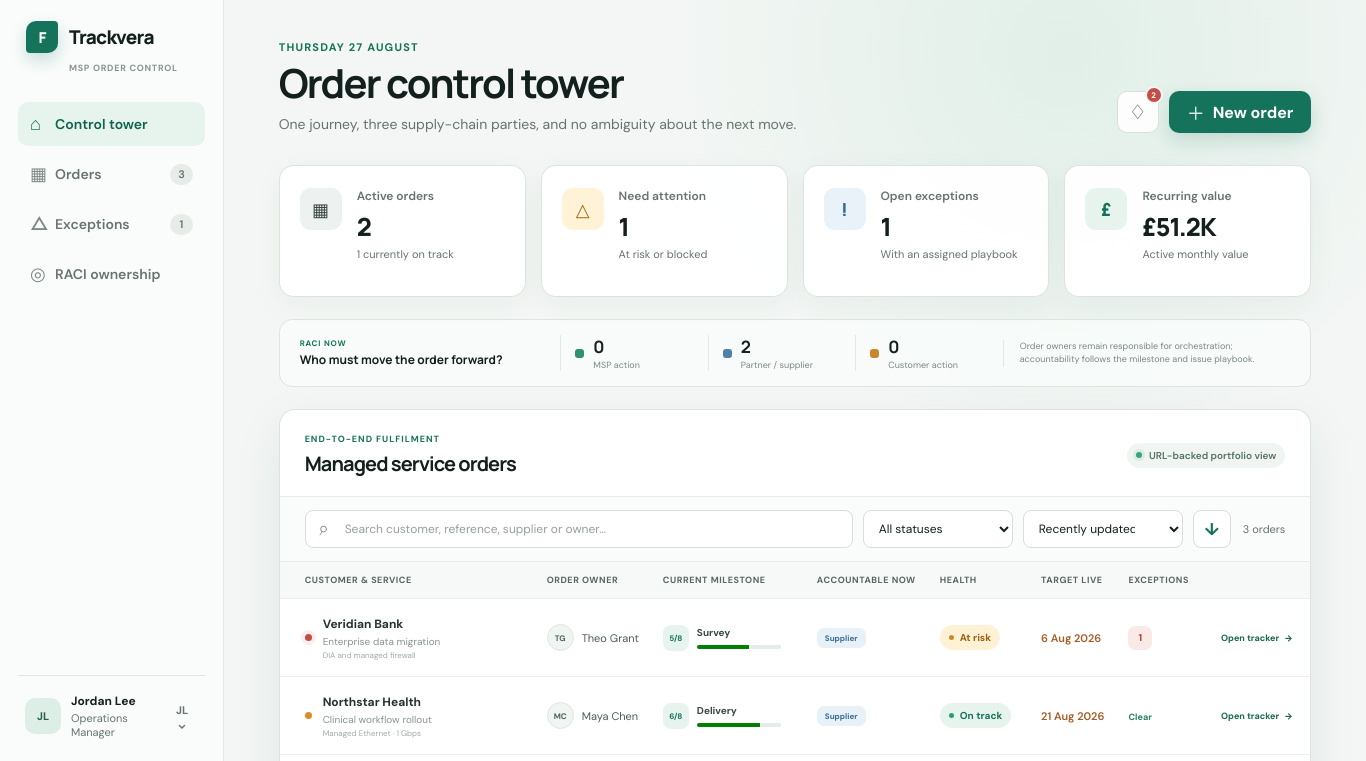
Scenario: MSP order orchestration › shows RACI ownership and an exception resolution playbook
Expected: the text "Veridian Bank" is shown, [323, 616, 403, 632]
Click the button with aria-label "Open Veridian Bank order tracker" at point(1257, 638), box [1213, 626, 1301, 650]
(page scrolled)
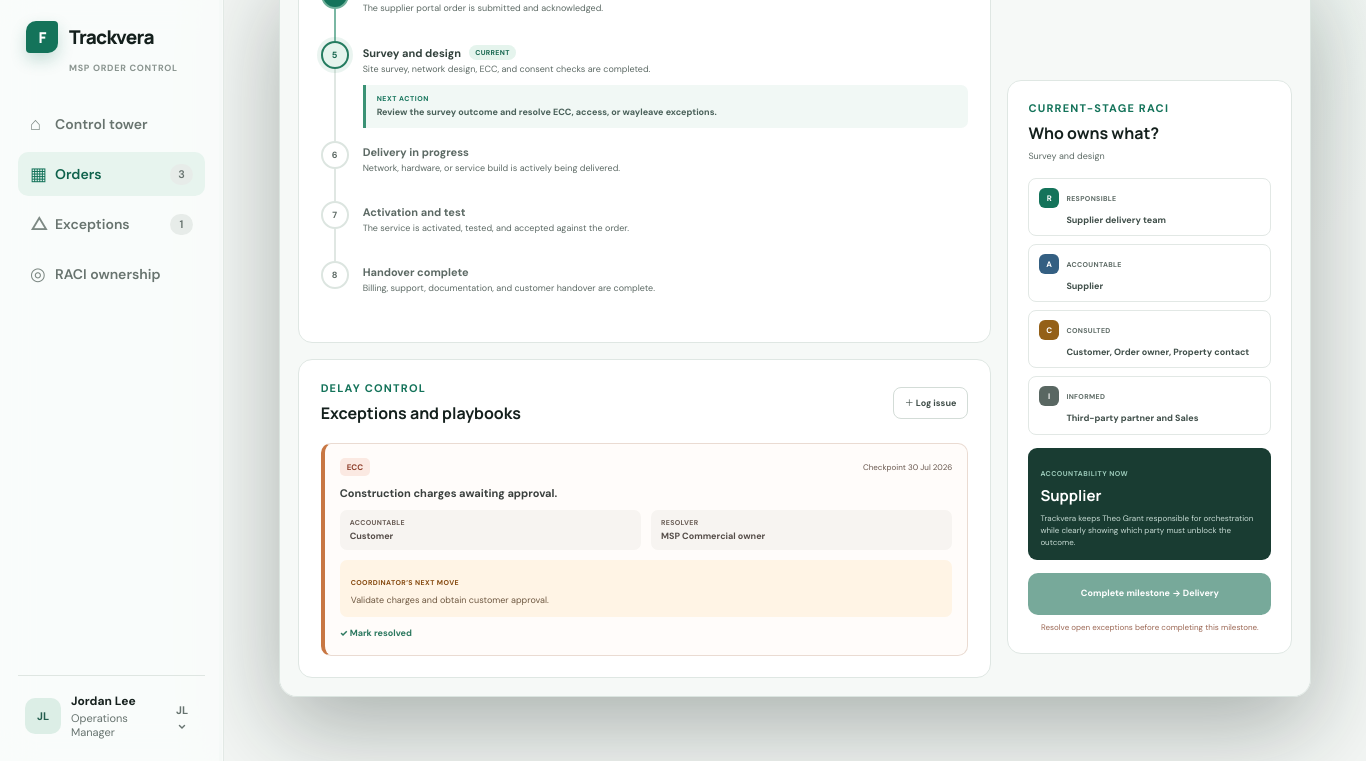
Expected: the heading "Who owns what?" is shown, [1028, 122, 1159, 144]
Expected: the heading "Construction charges awaiting approval." is shown, [340, 486, 557, 500]
Expected: the text "Validate charges and obtain customer approval." is shown, [351, 594, 549, 606]
